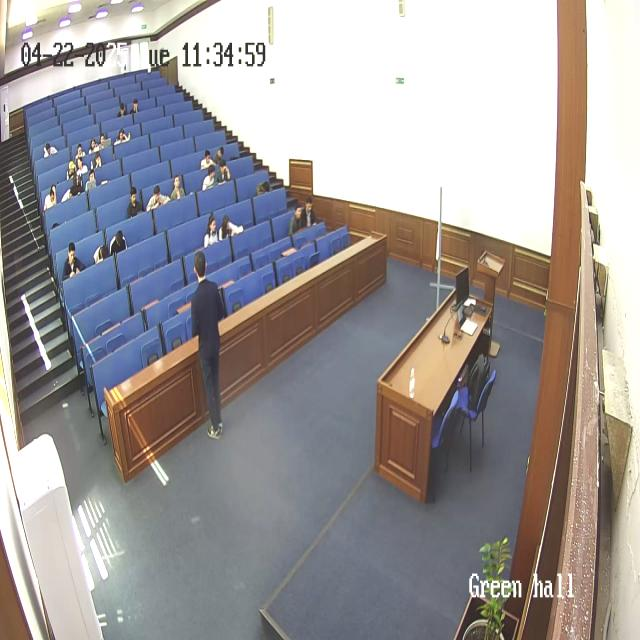person: (190, 250, 226, 438), (62, 243, 84, 281), (218, 213, 244, 240), (126, 186, 146, 218), (146, 184, 168, 212), (203, 212, 220, 248), (213, 146, 230, 180), (290, 202, 306, 236), (67, 162, 83, 196), (302, 195, 318, 228), (110, 229, 128, 257), (170, 172, 186, 200), (92, 241, 110, 264), (202, 163, 216, 190), (44, 186, 58, 212), (85, 168, 100, 191), (200, 148, 214, 170), (90, 154, 104, 175), (114, 127, 130, 145), (43, 141, 58, 159), (88, 140, 100, 159), (98, 132, 110, 151), (74, 143, 88, 158), (255, 182, 271, 195), (117, 102, 128, 118), (130, 98, 140, 113)
